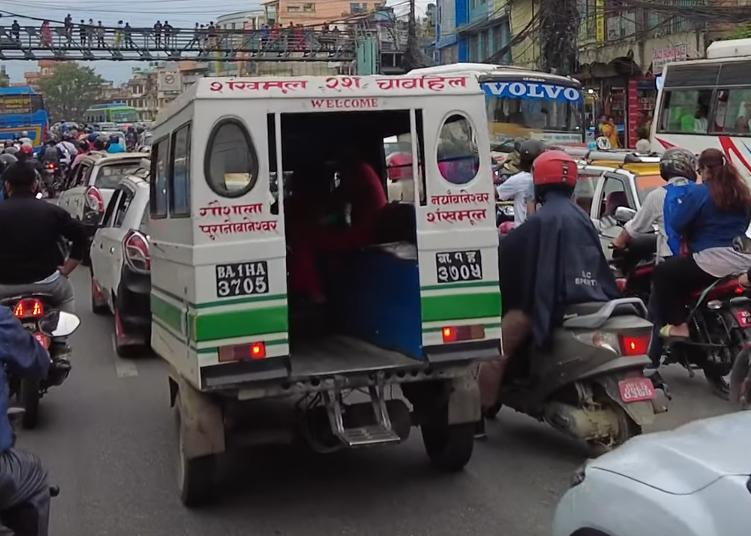scooter: (499, 264, 661, 457)
tempo: (127, 69, 501, 516)
